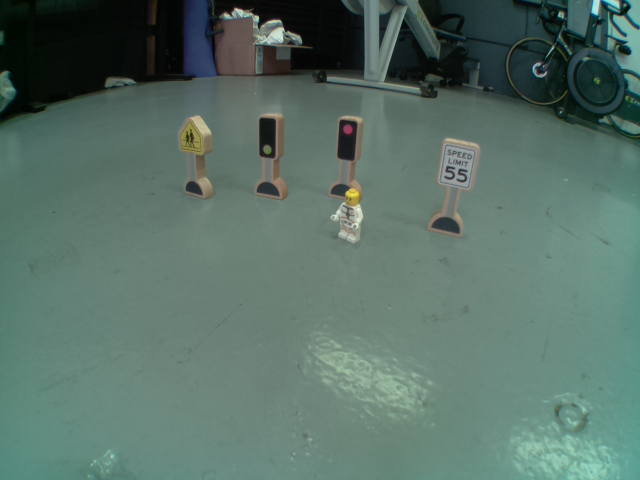Green Traffic Light: (256, 116, 279, 160)
Red Traffic Light: (337, 114, 357, 162)
Speed Limit 55: (435, 138, 477, 190)
YIELD: (178, 116, 208, 158)
person: (326, 186, 367, 244)
